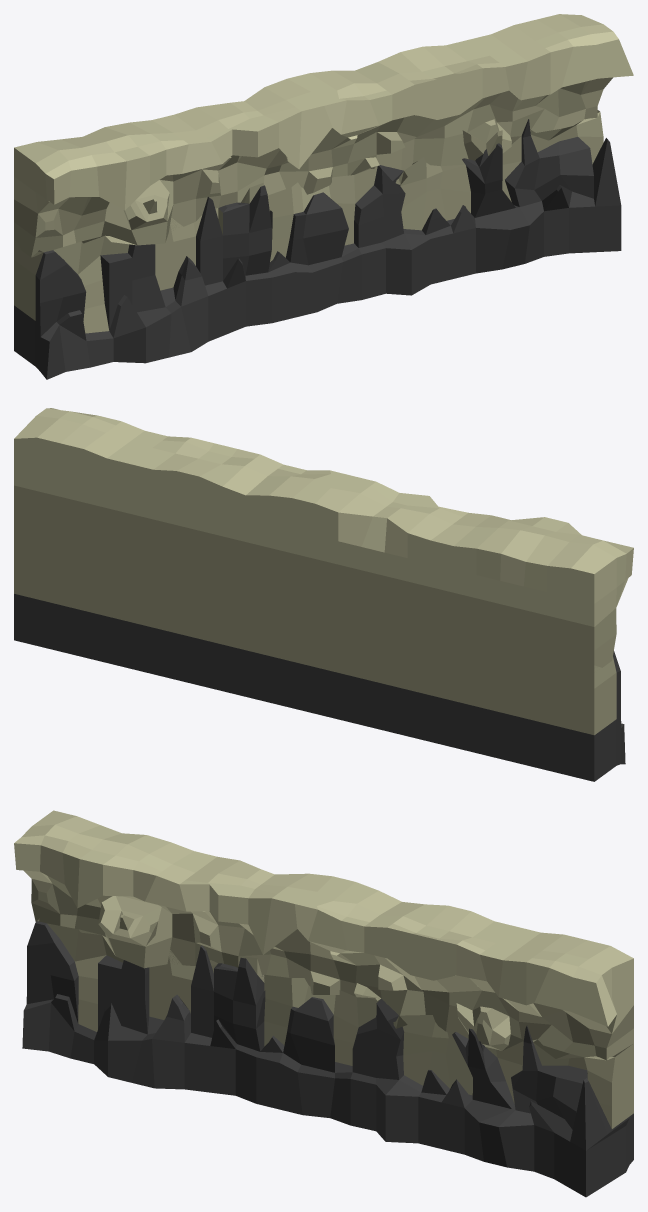
The model's file is Coast-1.fbx.
3 renders of one model, top to bottom at view 1: azimuth 30°, elevation 25°; view 2: azimuth 150°, elevation 25°; view 3: azimuth 330°, elevation 25°, orthographic. The views are drawn at different scales.
Visible parts, largest first — view 1: Cube.019; view 2: Cube.019; view 3: Cube.019.
Boxes of the visible parts, x1,y1,x2,y2 form: Cube.019: (14, 14, 633, 379); Cube.019: (14, 408, 633, 781); Cube.019: (14, 810, 633, 1197).
Size of the model in its own units: 10252 by 3657 by 1346.
